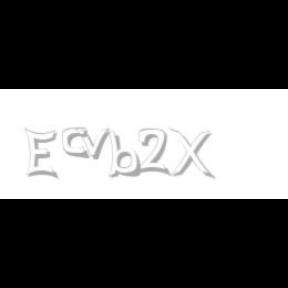2: (135, 128, 169, 176)
E: (24, 128, 57, 180)
X: (169, 128, 213, 180)
b: (106, 128, 144, 178)
c: (62, 128, 90, 160)
v: (74, 128, 114, 160)
